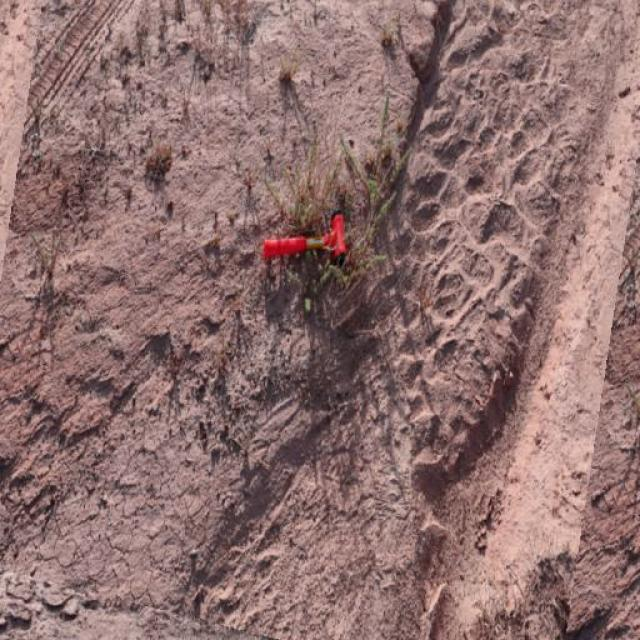mallet: (262, 209, 350, 266)
